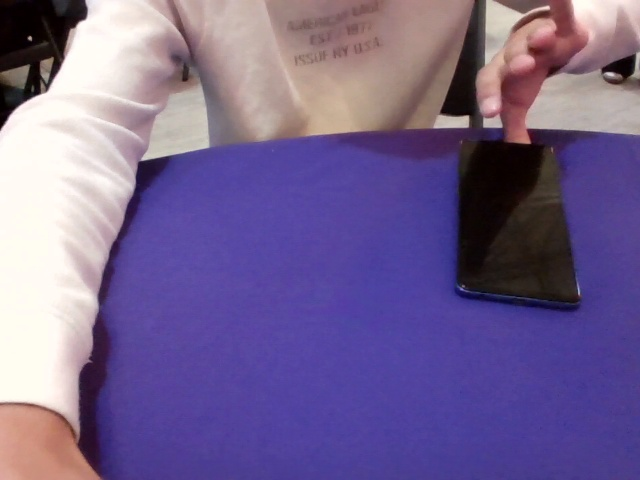celular: (601, 53, 637, 83)
